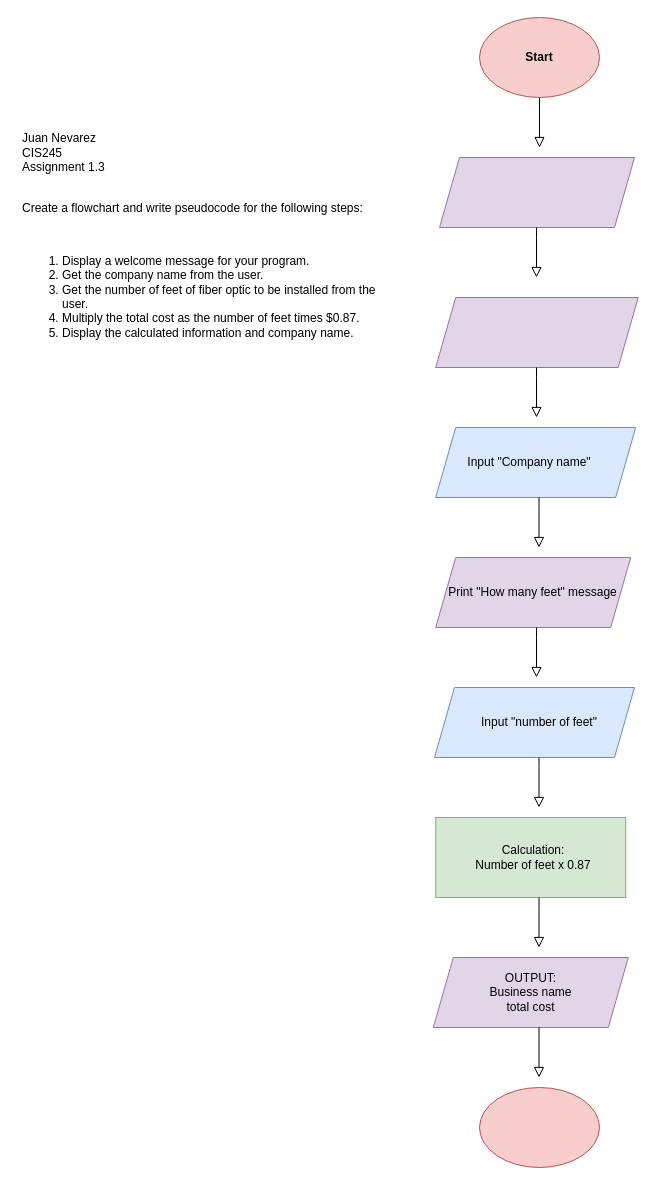
Image size: 656x1185. Some labels were removed from this diagram. The shapes that lost their labels are listed below. From the top down, each one's box as (x1, y1, x2, y2) in pixels, then its label:
(438, 156, 634, 228): Print "Welcome" message
(435, 296, 638, 368): Print "enter company name"
(478, 1086, 600, 1168): Stop
